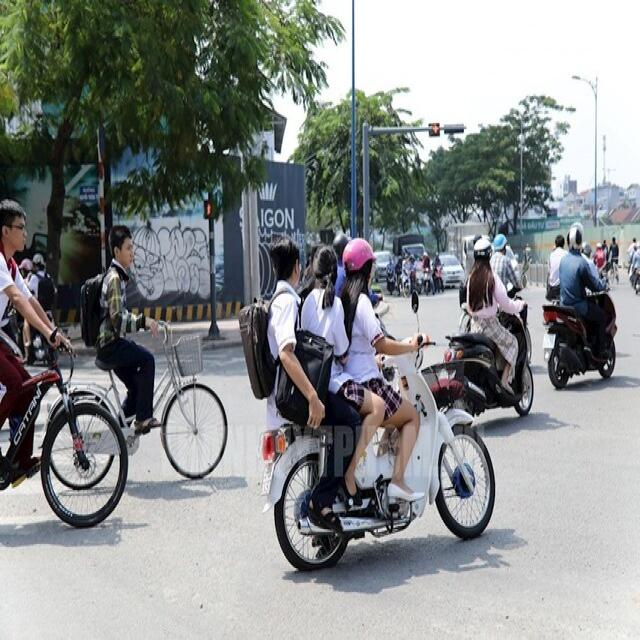helmet: (341, 239, 378, 273)
no_helmet: (310, 239, 340, 311), (268, 230, 304, 289)
